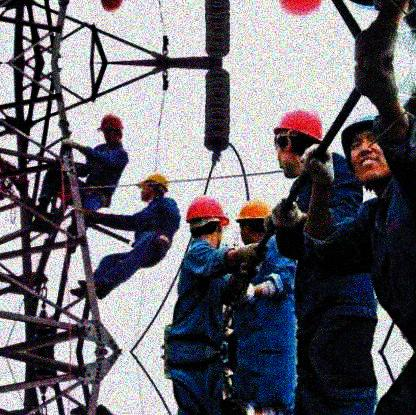helmet: (340, 114, 395, 187), (273, 109, 326, 178), (187, 196, 231, 248), (236, 200, 272, 243), (97, 114, 126, 146), (138, 172, 169, 201)
